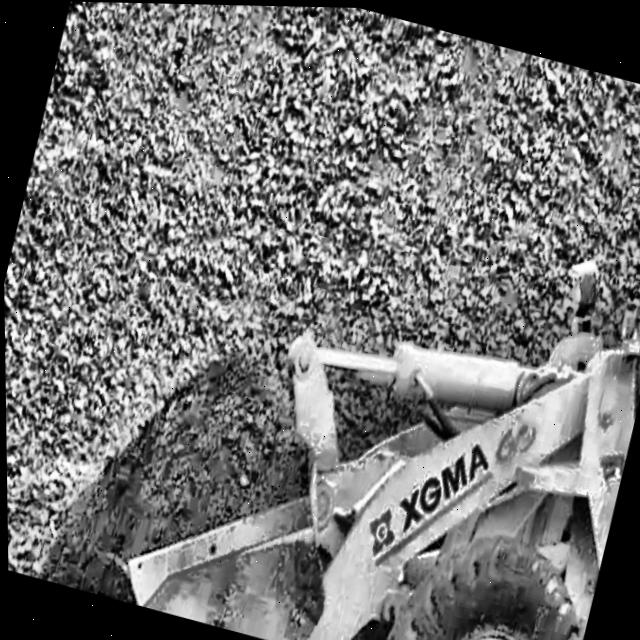buldozerpayloadergrader: (168, 3, 640, 640)
